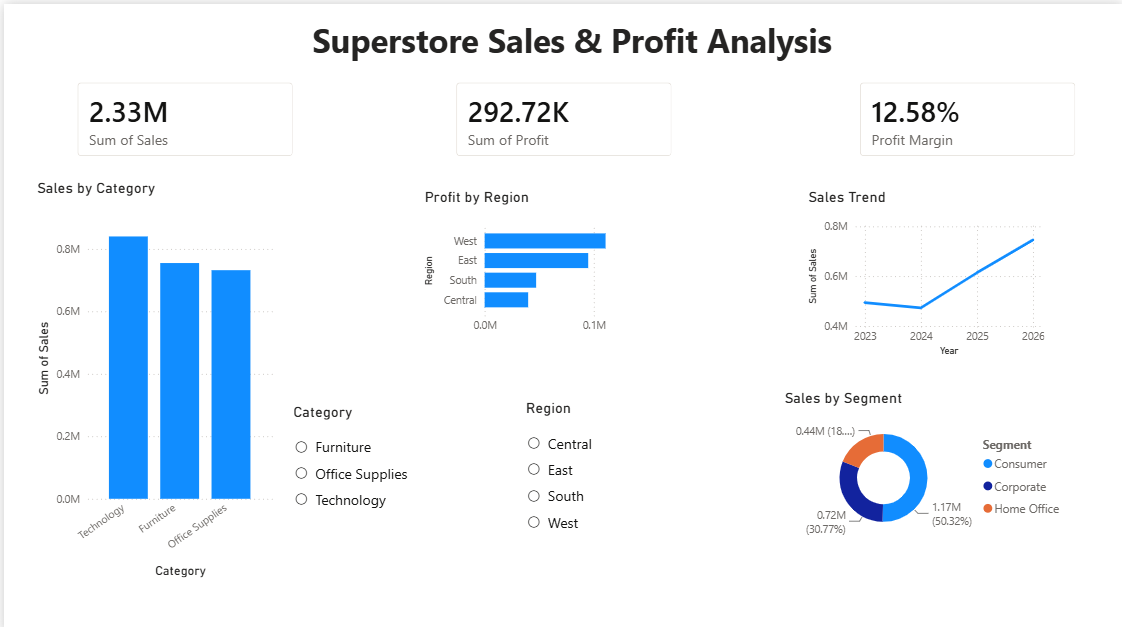

What the dashboard file says about the page in this screenshot:
{"tool":"powerbi","page":{"name":"Page 1","canvas":[1280,720],"ordinal":0},"visuals":[{"type":"cardVisual","fields":{"Data":["Sum(orders.Sales)"]},"box":[67.2,72.1,280.2,118],"z":0},{"type":"cardVisual","fields":{"Data":["Sum(orders.Profit)"]},"box":[500.1,72.1,280.2,118],"z":1},{"type":"cardVisual","fields":{"Data":["orders.Profit Margin"]},"box":[961.6,72.1,280.2,118],"z":2},{"type":"clusteredColumnChart","title":"Sales by Category","fields":{"Category":["orders.Category"],"Y":["Sum(orders.Sales)"]},"box":[32.3,200.3,279.9,460.3],"z":3},{"type":"clusteredBarChart","title":"Profit by Region","fields":{"Category":["orders.Region"],"Y":["Sum(orders.Profit)"]},"box":[475.2,210.2,279.9,175.4],"z":4},{"type":"lineChart","title":"Sales Trend","fields":{"Category":["orders.Order_Date.Variation.Date Hierarchy.Year","orders.Order_Date.Variation.Date Hierarchy.Quarter","orders.Order_Date.Variation.Date Hierarchy.Month","orders.Order_Date.Variation.Date Hierarchy.Day"],"Y":["Sum(orders.Sales)"]},"box":[914.5,210.5,279.9,197.8],"z":5},{"type":"donutChart","title":"Sales by Segment","fields":{"Category":["orders.Segment"],"Y":["Sum(orders.Sales)"]},"box":[886.9,440.4,333.4,172.9],"z":6},{"type":"listSlicer","fields":{"Values":["orders.Region"]},"box":[590.9,451.6,260,163],"z":7},{"type":"textbox","box":[347.1,11.2,656.8,61],"z":9},{"type":"listSlicer","fields":{"Values":["orders.Category"]},"box":[325.9,455.3,243.8,143.1],"z":10}]}

Visuals, with their boxes in screenshot pixels (x1, y1, x2, y2), scaled from the page's 1280x720 canvas onto the 1122x627 screenshot:
cardVisual - Sum(orders.Sales): 59, 63, 305, 166
cardVisual - Sum(orders.Profit): 438, 63, 684, 166
cardVisual - orders.Profit Margin: 843, 63, 1089, 166
"Sales by Category" clusteredColumnChart: 28, 174, 274, 575
"Profit by Region" clusteredBarChart: 417, 183, 662, 336
"Sales Trend" lineChart: 802, 183, 1047, 356
"Sales by Segment" donutChart: 777, 384, 1070, 534
listSlicer - orders.Region: 518, 393, 746, 535
textbox: 304, 10, 880, 63
listSlicer - orders.Category: 286, 396, 499, 521
